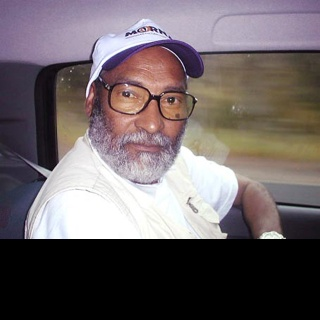without_mask: (88, 46, 190, 185)
